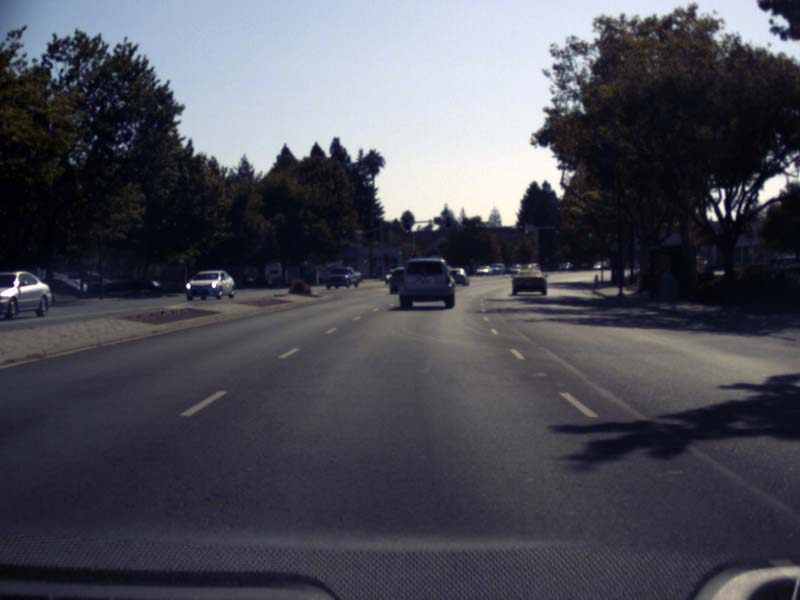Green: (586, 229, 594, 240), (554, 225, 560, 235)
Yellow: (517, 221, 525, 231)
